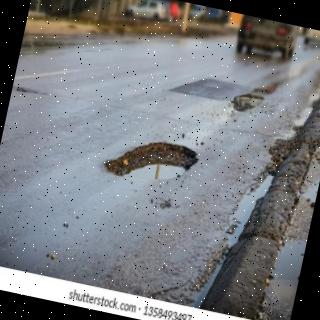pothole: (104, 142, 198, 178)
